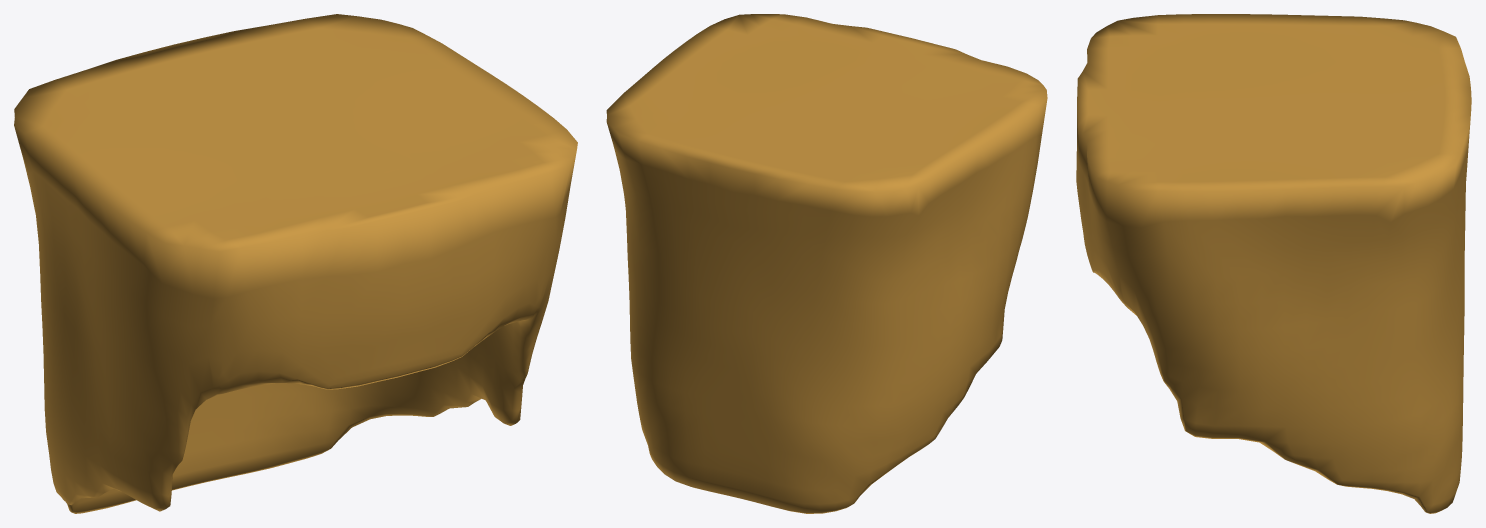
File: HairType3.fbx
The picture shows the model from 3 angles, left to right: view 1: azimuth 30°, elevation 25°; view 2: azimuth 150°, elevation 25°; view 3: azimuth 270°, elevation 25°; orthographic projection. The views are drawn at different scales.
Parts seen in each view (by area): view 1: HairType3; view 2: HairType3; view 3: HairType3.
Boxes of the visible parts, x1=… form: HairType3: x1=14, y1=14, x2=577, y2=513; HairType3: x1=606, y1=14, x2=1047, y2=513; HairType3: x1=1076, y1=14, x2=1471, y2=513.
Bounding box in the file's own units: 235 × 229 × 221.
